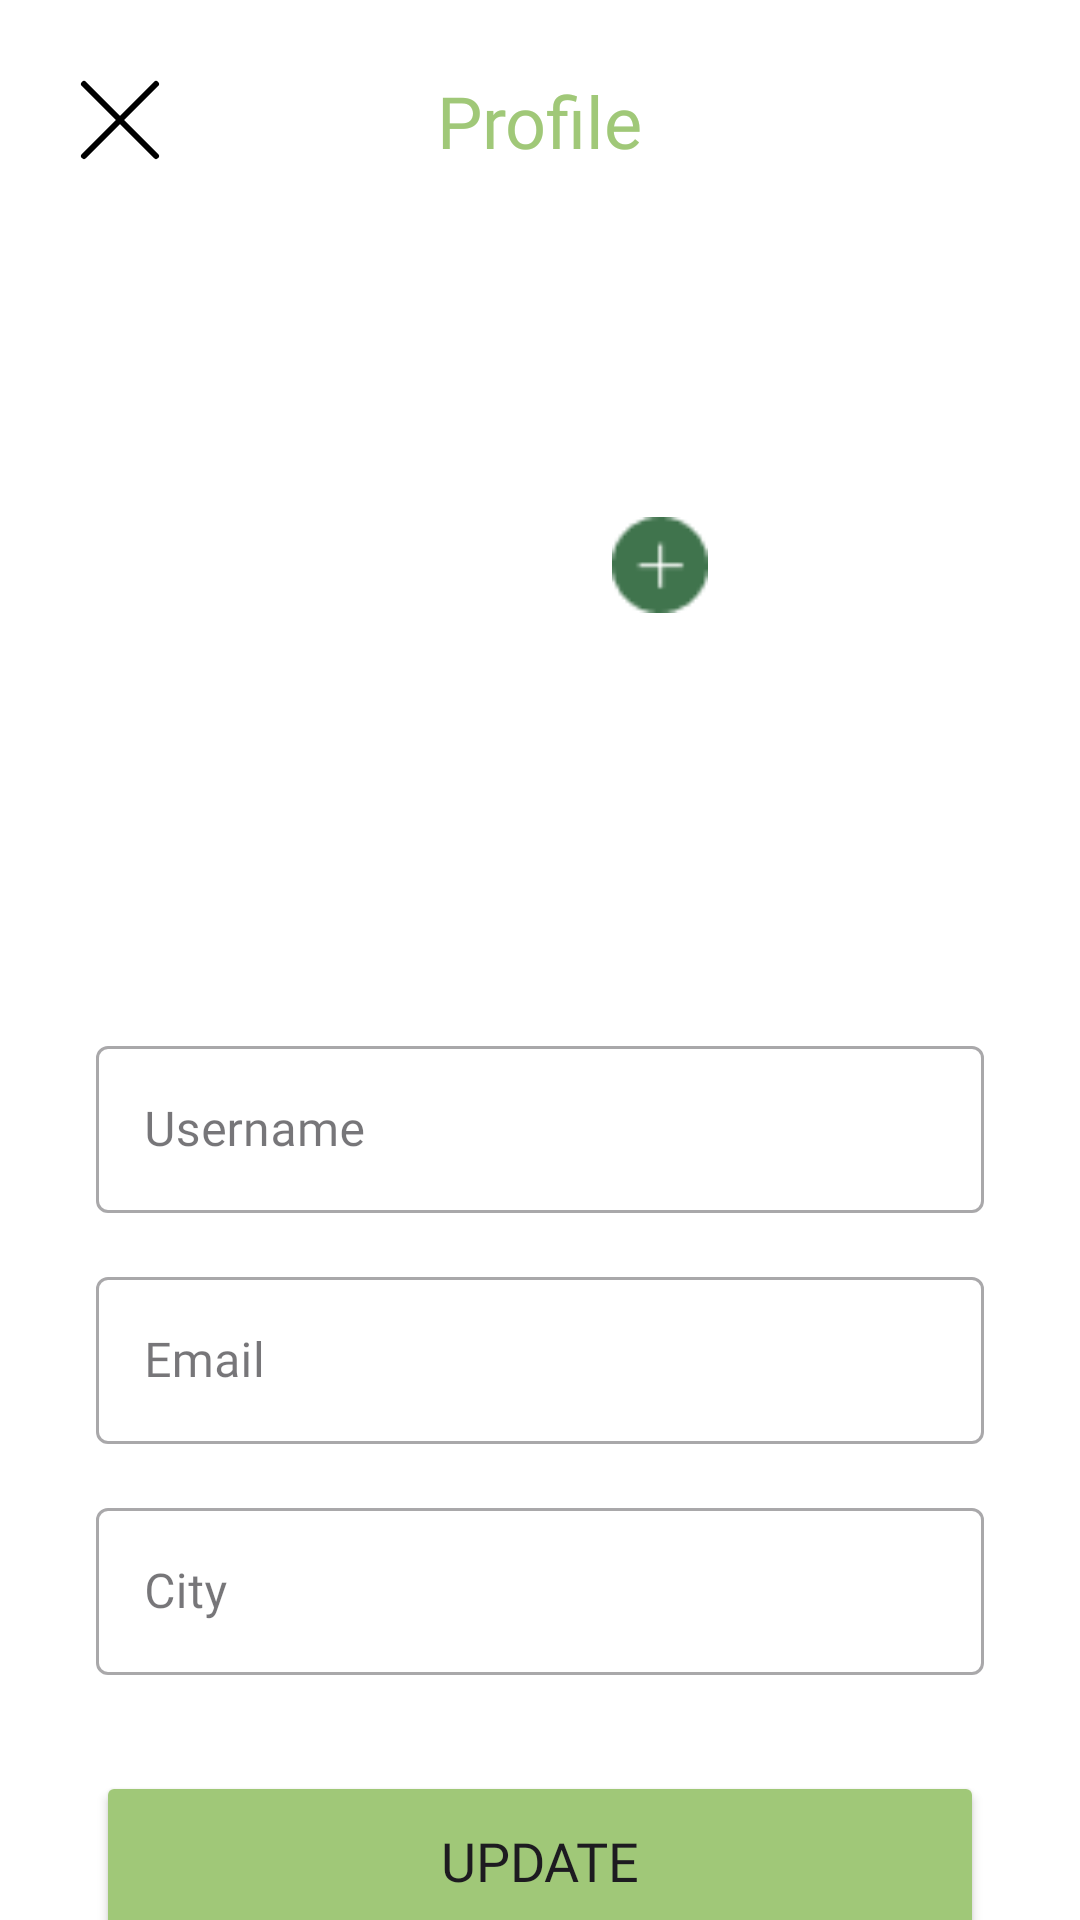

Screen size 1080 × 1920. Icon name, then its box in pixels as (x1, y1, x2, y2):
close profile: (81, 80, 159, 159)
